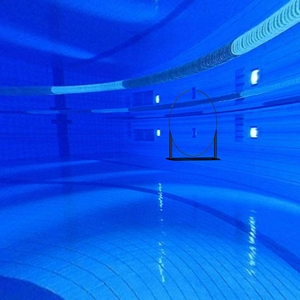circle: (165, 87, 221, 165)
